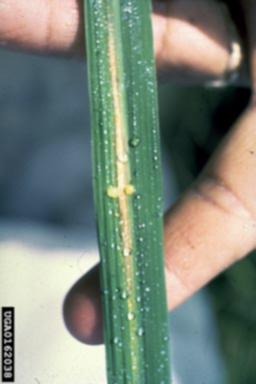2 BacterialBlight: (101, 8, 145, 341)
